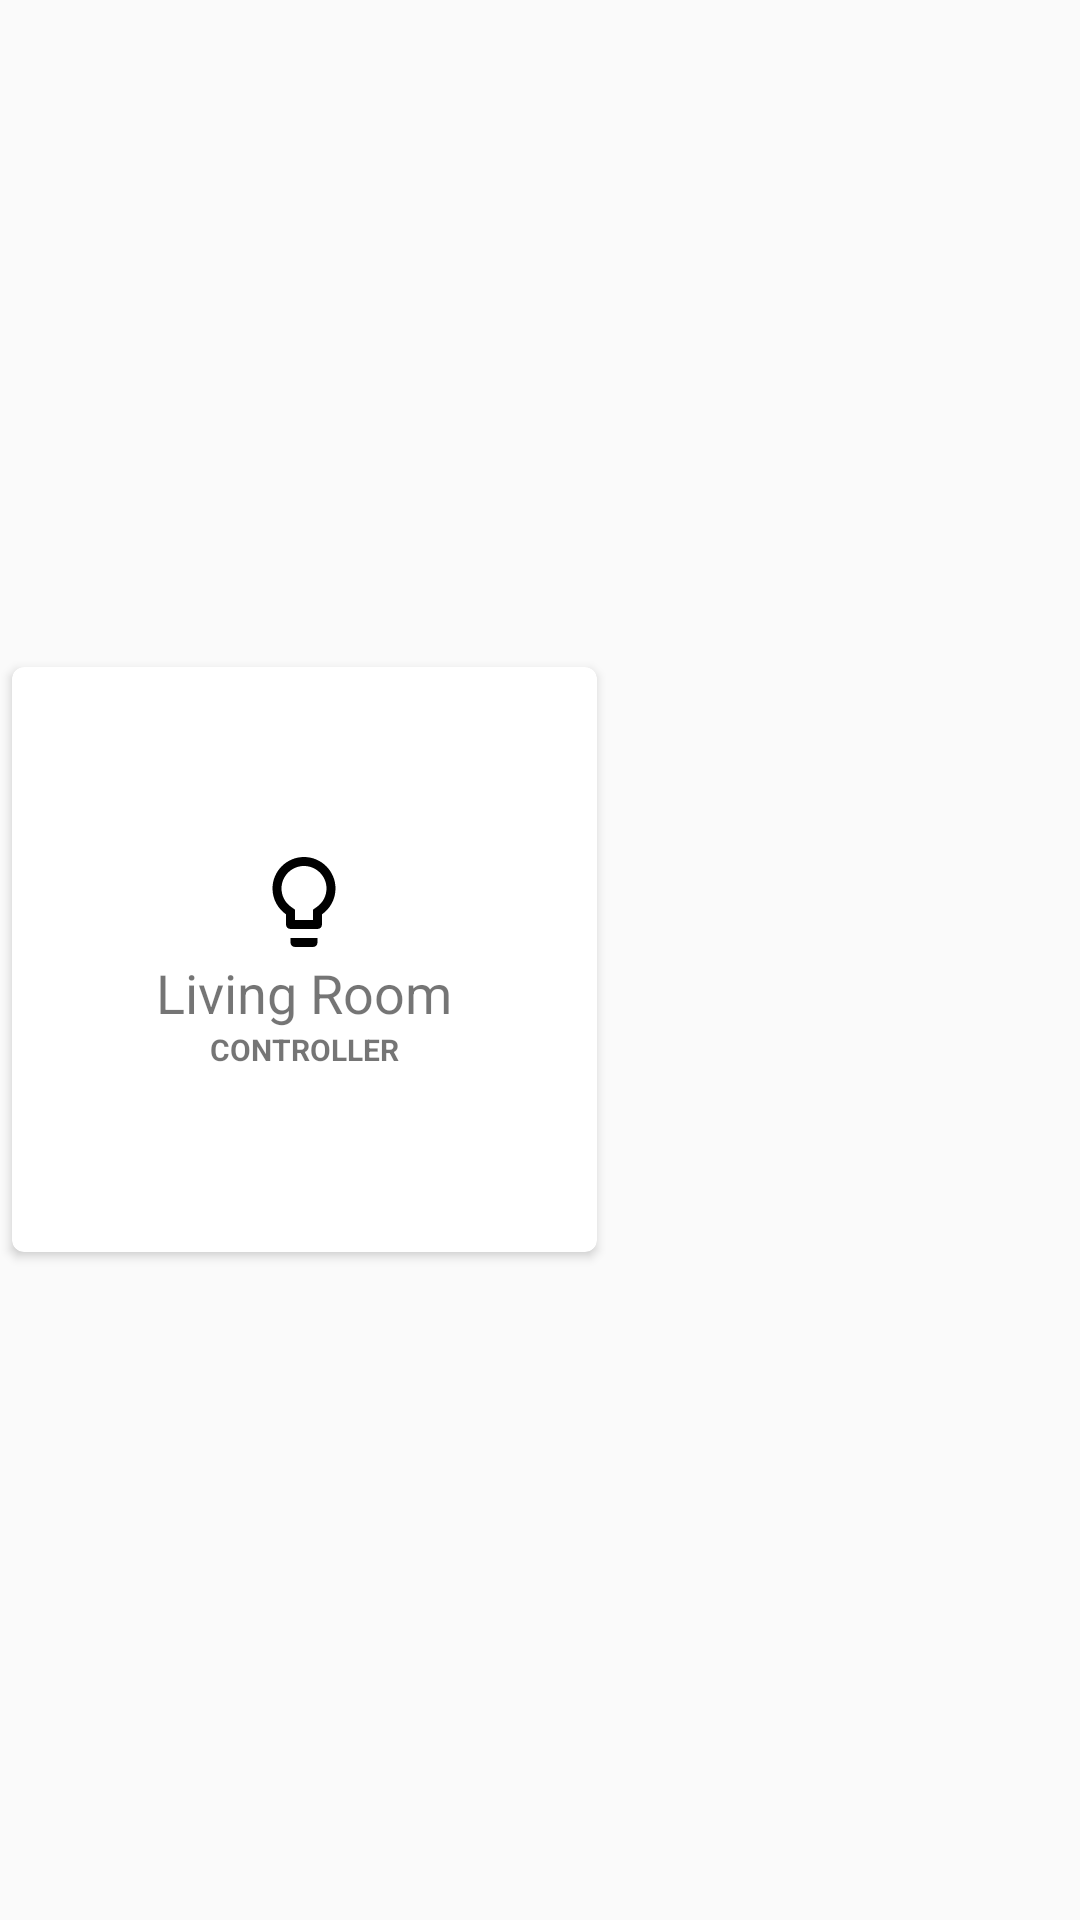

Icons on this 1080×1920 Android screen, each with the point to tap as [x,y]:
lightbulb: [304,902]
